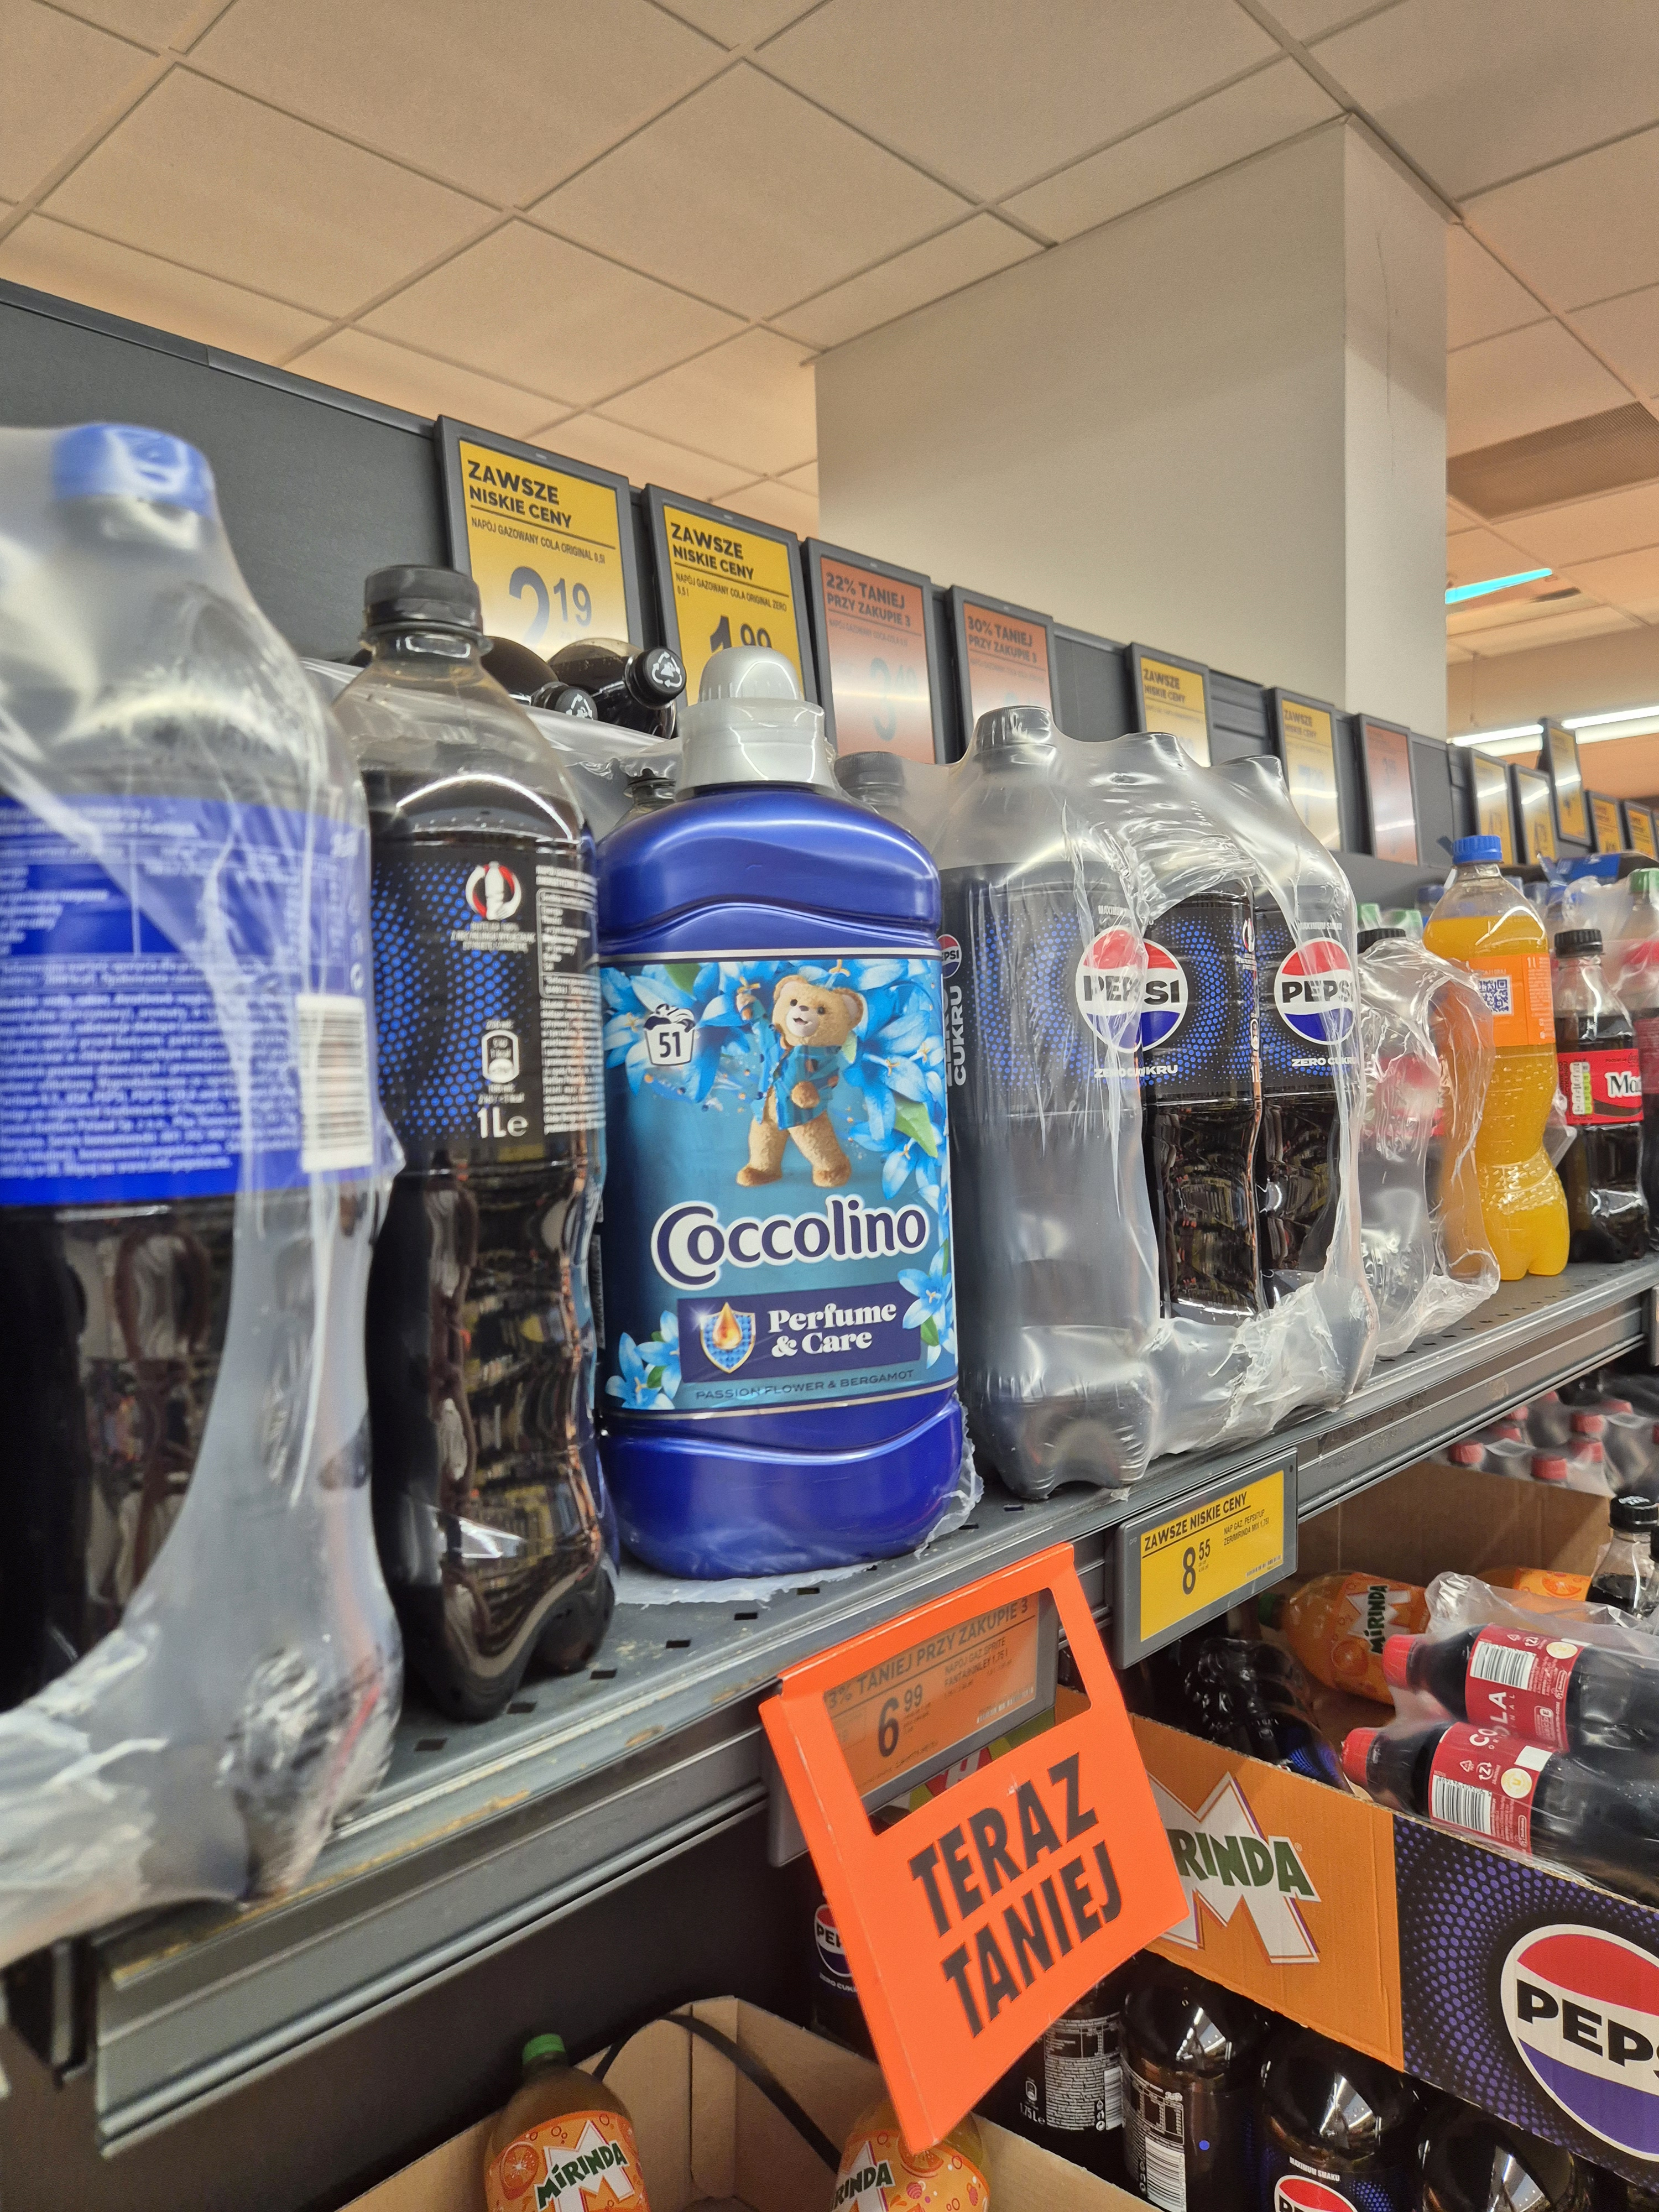cocolino: (591, 648, 999, 1568)
